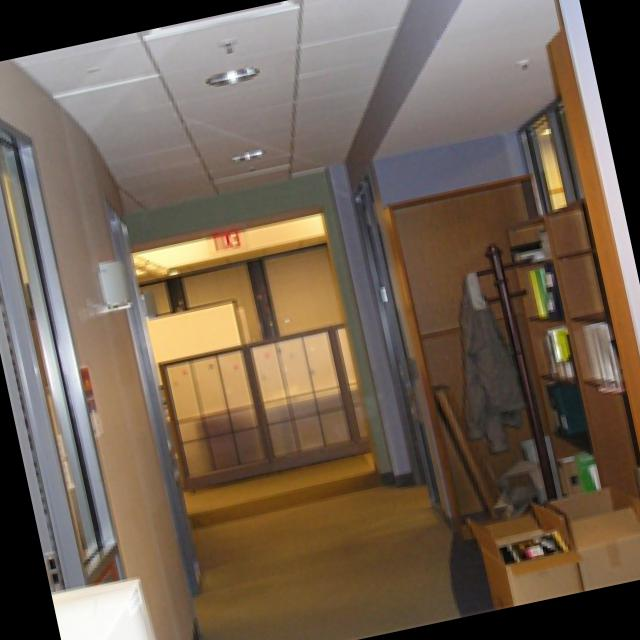2001: (0, 115, 120, 591), (524, 109, 566, 211)
books crop: (543, 379, 584, 433), (582, 323, 615, 385), (556, 451, 600, 491), (527, 264, 561, 314), (545, 327, 576, 381)
bookshelf: (508, 199, 640, 497)
box contants: (465, 502, 582, 607), (545, 486, 640, 588)
box crop: (495, 526, 568, 562)
ceiling beam: (9, 0, 560, 214)
ceiling vent: (203, 65, 257, 85), (226, 147, 261, 159)
coat crop: (460, 276, 523, 452)
coatrack: (466, 243, 553, 490)
door bars: (353, 172, 435, 502)
exit sign: (201, 220, 243, 255)
floor -X: (183, 453, 491, 640)
misc-: (490, 437, 544, 514)
panels: (163, 323, 370, 489)
poster crop: (429, 384, 499, 514)
shelf crop: (381, 174, 559, 530)
sprinkler: (216, 37, 235, 51), (513, 57, 525, 68), (246, 163, 251, 169)
wall clock: (124, 127, 527, 508), (0, 62, 196, 640)
wall light: (83, 256, 130, 313)
